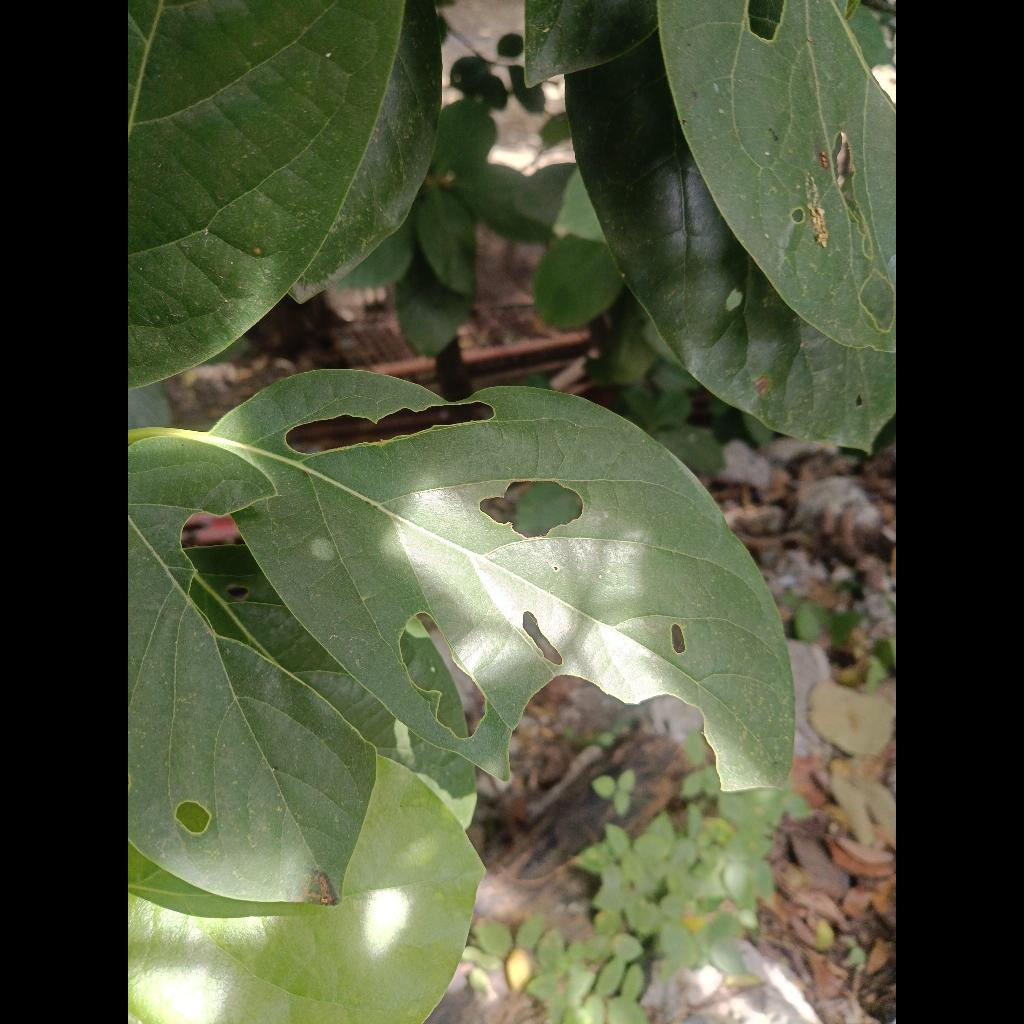plaga: (128, 370, 794, 914)
